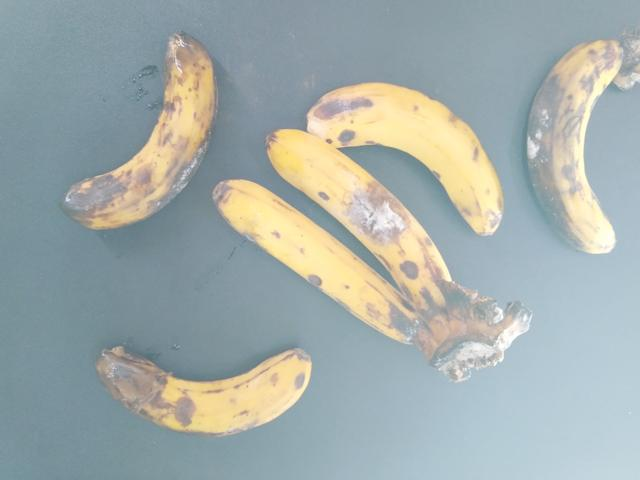overripe: (309, 71, 520, 233), (257, 115, 429, 296), (219, 174, 412, 332)
rotten: (46, 12, 225, 231), (68, 328, 324, 465), (511, 11, 639, 275), (330, 149, 415, 256)
